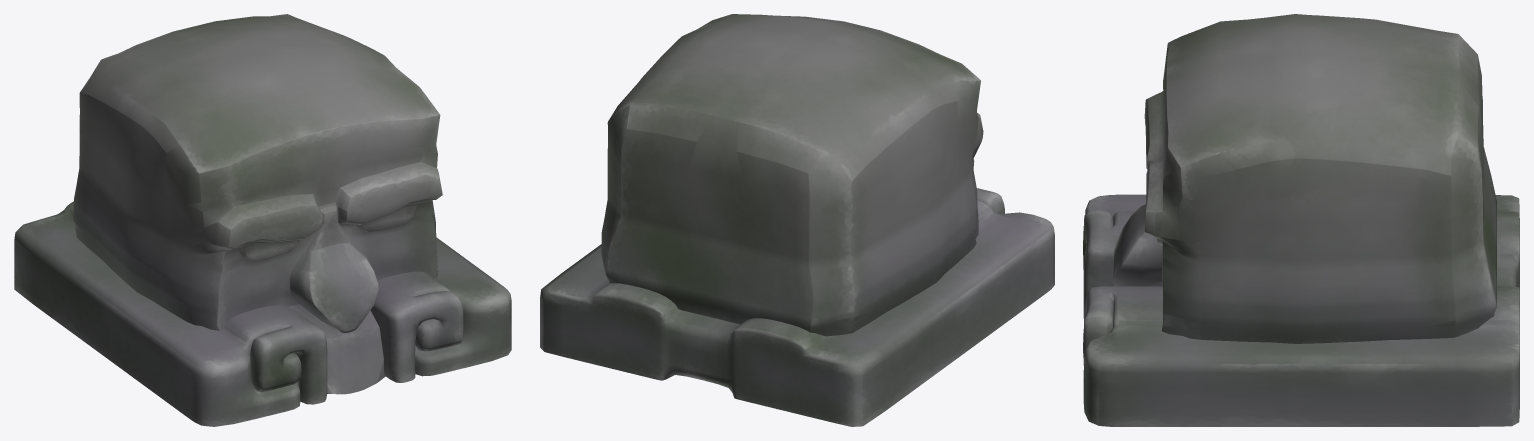
Rendered from Link_Remake_Tome.fbx.
3 views of the same model, side by side, from view 1: azimuth 30°, elevation 25°; view 2: azimuth 150°, elevation 25°; view 3: azimuth 270°, elevation 25° (orthographic). The views are drawn at different scales.
Parts seen in each view (by area): view 1: Cube.005; view 2: Cube.005; view 3: Cube.005.
Part boxes in pixels (x1=…): Cube.005: x1=14, y1=14, x2=511, y2=426; Cube.005: x1=540, y1=14, x2=1054, y2=426; Cube.005: x1=1083, y1=14, x2=1519, y2=426.
Bounding box in the file's own units: 83.55 × 68.02 × 90.69.
Materials: 2 (2 with a texture image).
